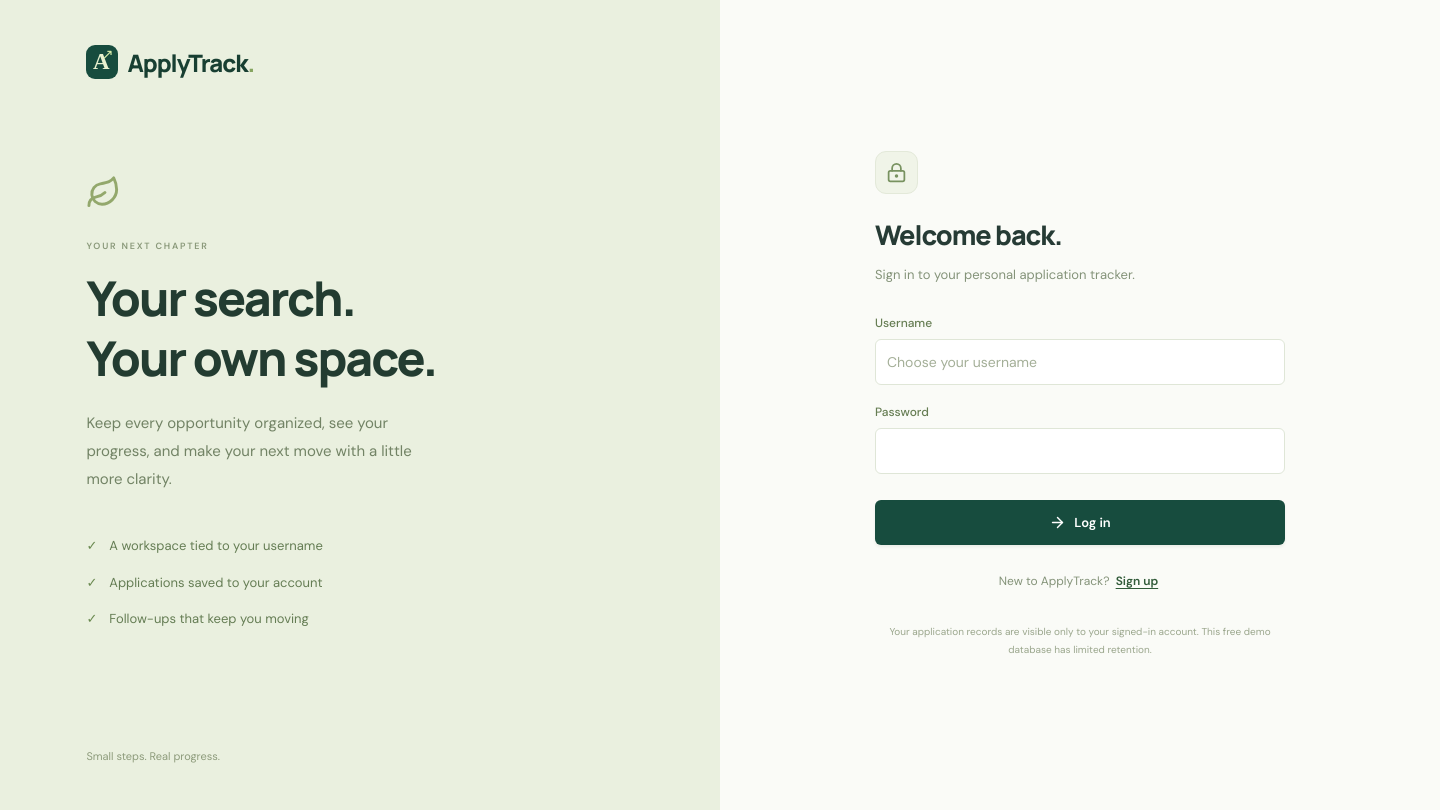
Test: shows login errors and preserves the form for retry
Expected: the heading "Welcome back." is shown, 875,216 -> 1062,253
Type "Alice" into the field labelled "Username" at (1080, 362), box 875,339 -> 1285,385
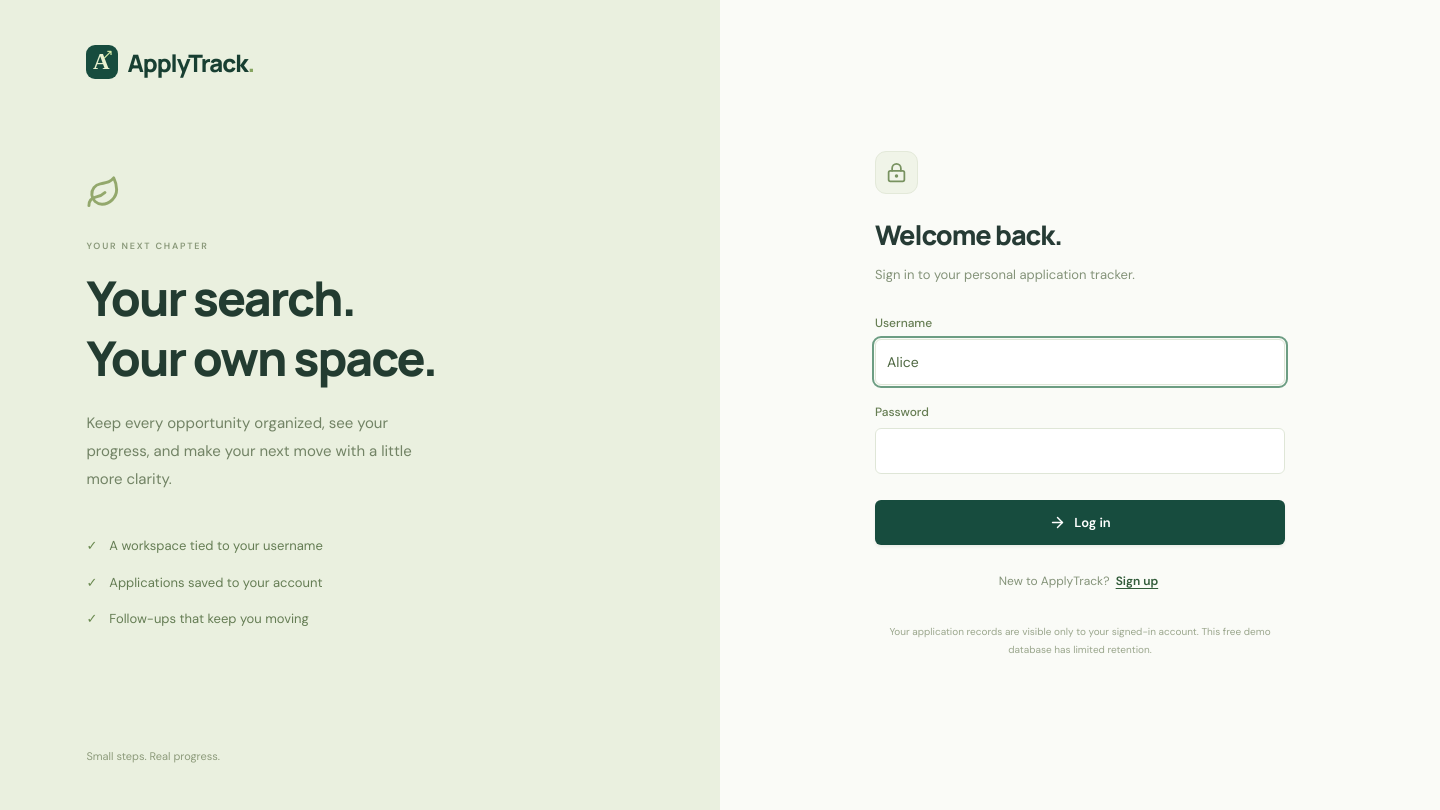
Type "incorrect" into the password field labelled "Password" at (1080, 451), box 875,428 -> 1285,474
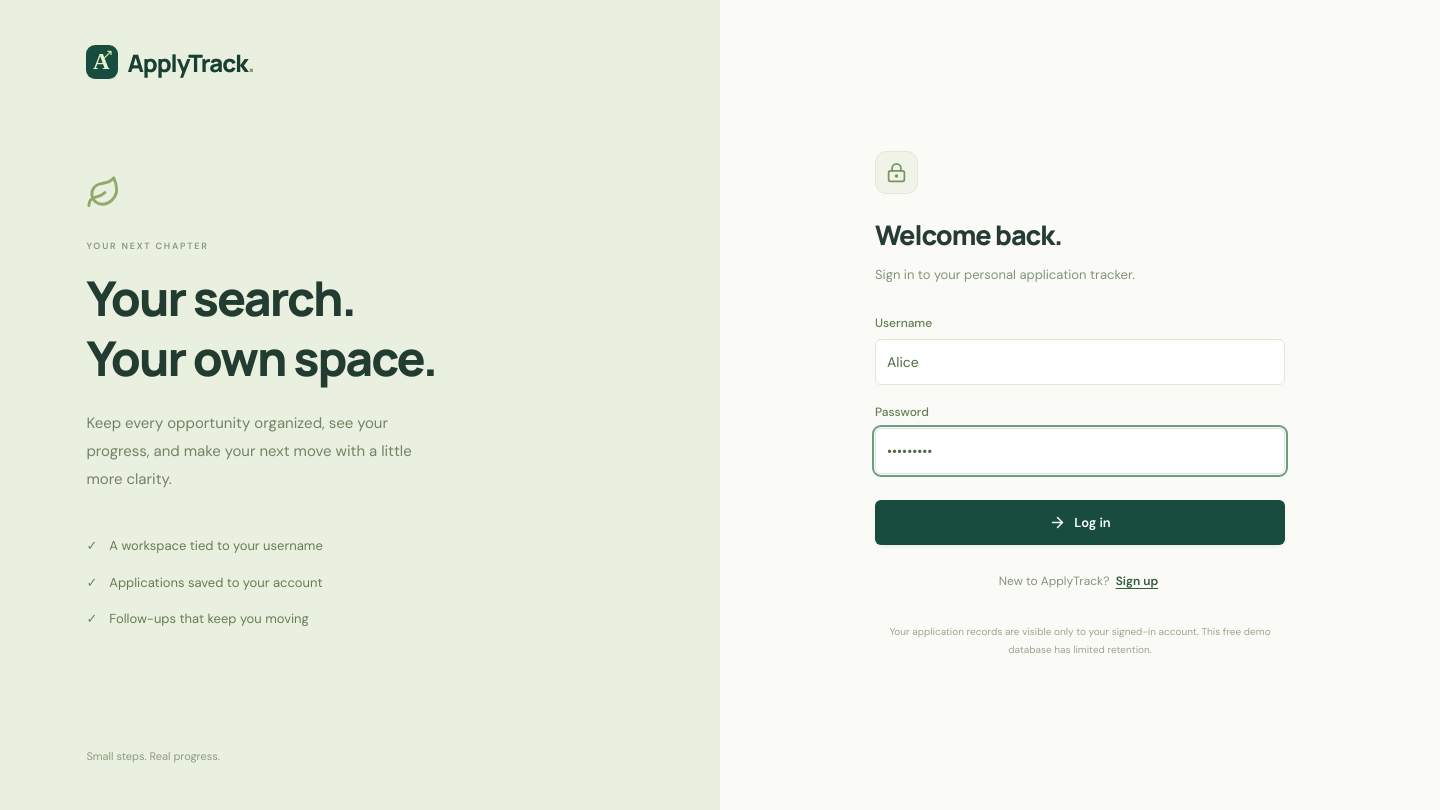
Click the button "Log in" at (1080, 523), box 875,500 -> 1285,545
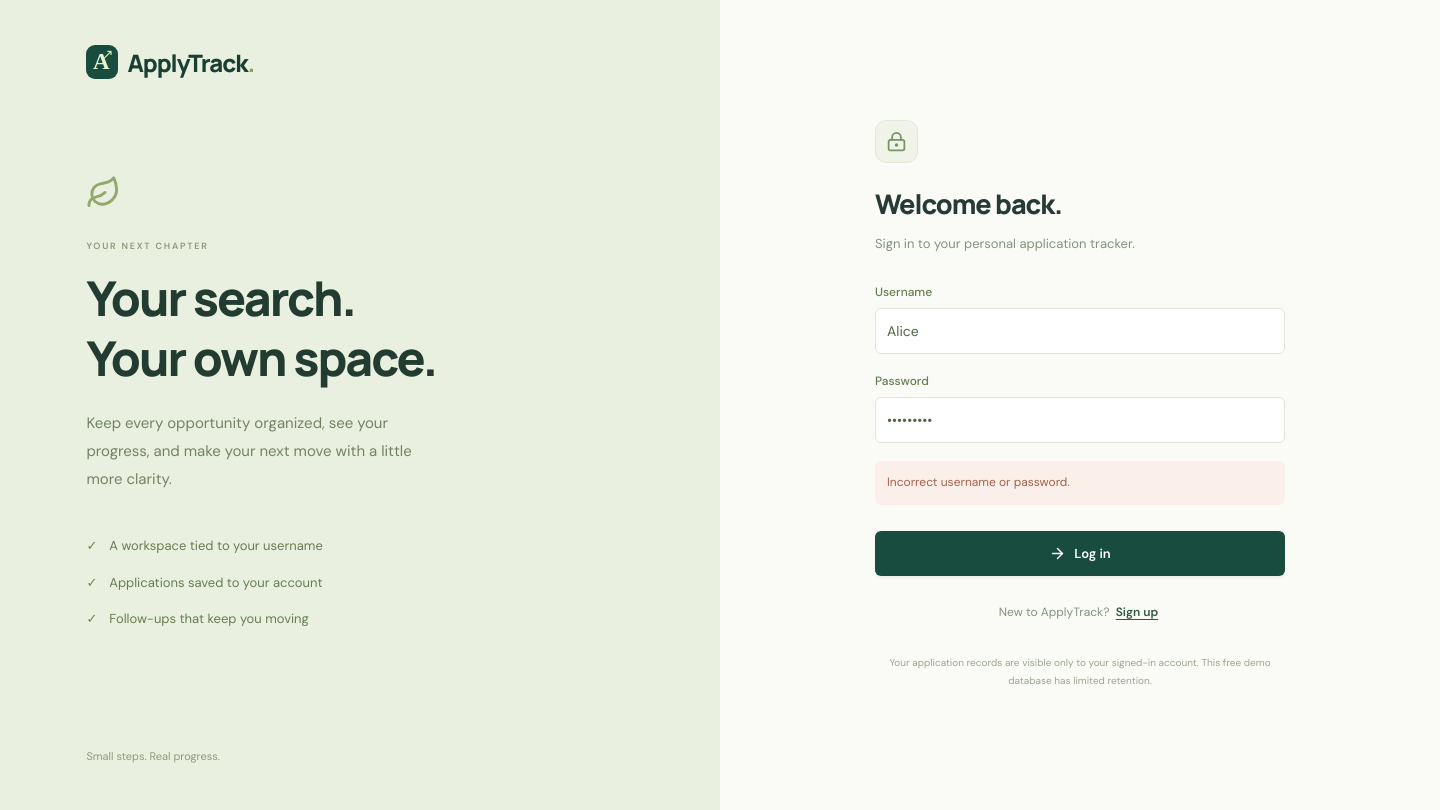
Result: the message shows "Incorrect username" at 887,474 -> 1070,490
